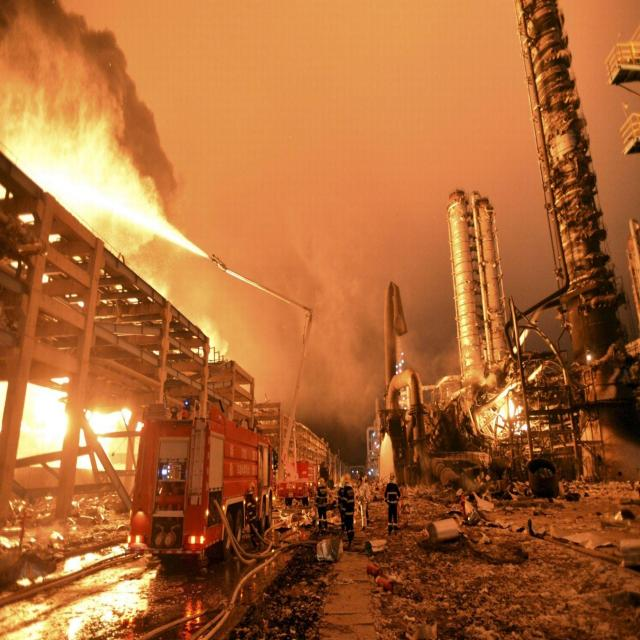Fire: (7, 366, 142, 474)
